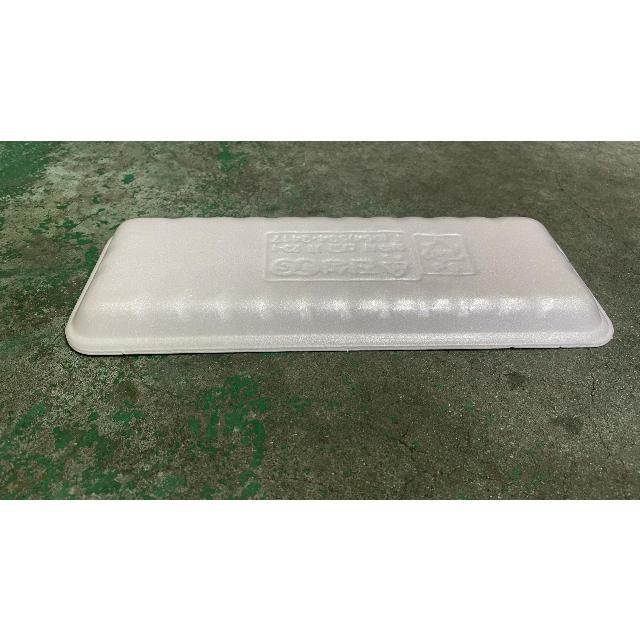Plastico descartable: (64, 217, 615, 359)
